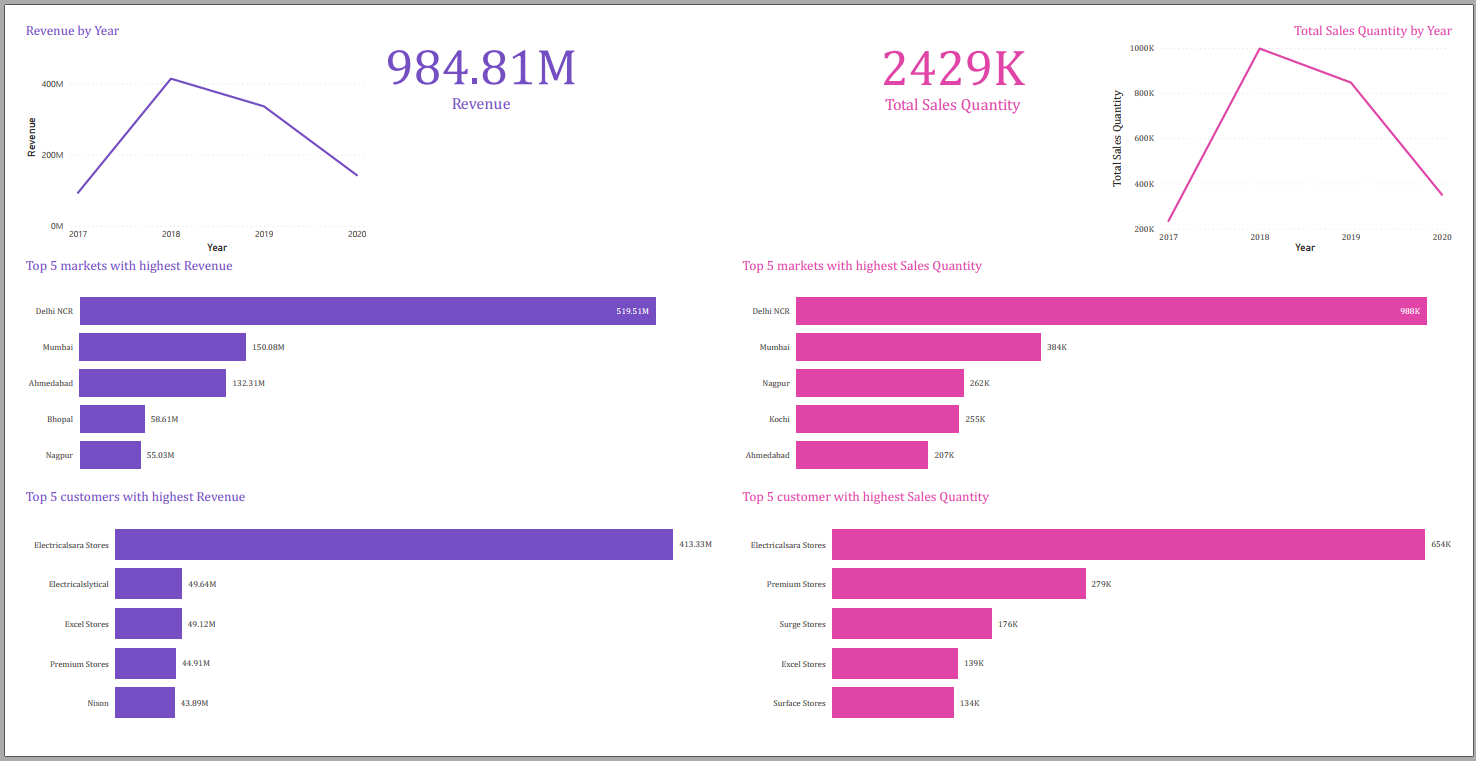

The page's visual inventory and layout, read from the dashboard file:
{"tool":"powerbi","page":{"name":"Page 1","canvas":[2000,1000],"ordinal":0},"visuals":[{"type":"card","fields":{"Values":["Base measures.Revenue"]},"box":[485.2,0,311.1,137],"z":0},{"type":"card","fields":{"Values":["Base measures.Total Sales Quantity"]},"box":[1096.3,0,403.7,138.9],"z":1},{"type":"clusteredBarChart","title":"Top 5 customers with highest Revenue","fields":{"Category":["sales customers.custmer_name"],"Y":["Base measures.Revenue"]},"box":[0,650,968.5,350],"z":2},{"type":"clusteredBarChart","title":"Top 5 customer with highest Sales Quantity","fields":{"Category":["sales customers.custmer_name"],"Y":["Base measures.Total Sales Quantity"]},"box":[1000,650,1000,350],"z":3},{"type":"lineChart","fields":{"Category":["sales date.date.Variation.Date Hierarchy.Year","sales date.date.Variation.Date Hierarchy.Day"],"Y":["Base measures.Revenue"]},"box":[0,0,485.2,327.8],"z":4},{"type":"clusteredBarChart","title":"Top 5 markets with highest Sales Quantity","fields":{"Category":["sales markets.markets_name"],"Y":["Base measures.Total Sales Quantity"]},"box":[1000,327.8,1000,322.2],"z":5},{"type":"clusteredBarChart","title":"Top 5 markets with highest Revenue","fields":{"Y":["Base measures.Revenue"],"Category":["sales markets.markets_name"]},"box":[0,327.8,942.6,322.2],"z":6},{"type":"lineChart","fields":{"Category":["sales date.date.Variation.Date Hierarchy.Year","sales date.date.Variation.Date Hierarchy.Day"],"Y":["Base measures.Total Sales Quantity"]},"box":[1514.7,0,485.3,327.9],"z":7}]}

Visuals, with their boxes on the page's 2000x1000 design canvas (x1, y1, x2, y2). These are canvas units, not pixel positions in the 1476x761 screenshot, which may show the page scaled, cropped or inside an application window:
card - Base measures.Revenue: pyautogui.locateOnScreen(485, 0, 796, 137)
card - Base measures.Total Sales Quantity: pyautogui.locateOnScreen(1096, 0, 1500, 139)
"Top 5 customers with highest Revenue" clusteredBarChart: pyautogui.locateOnScreen(0, 650, 968, 1000)
"Top 5 customer with highest Sales Quantity" clusteredBarChart: pyautogui.locateOnScreen(1000, 650, 2000, 1000)
lineChart - sales date.date.Variation.Date Hierarchy.Year x sales date.date.Variation.Date Hierarchy.Day: pyautogui.locateOnScreen(0, 0, 485, 328)
"Top 5 markets with highest Sales Quantity" clusteredBarChart: pyautogui.locateOnScreen(1000, 328, 2000, 650)
"Top 5 markets with highest Revenue" clusteredBarChart: pyautogui.locateOnScreen(0, 328, 943, 650)
lineChart - sales date.date.Variation.Date Hierarchy.Year x sales date.date.Variation.Date Hierarchy.Day: pyautogui.locateOnScreen(1515, 0, 2000, 328)
